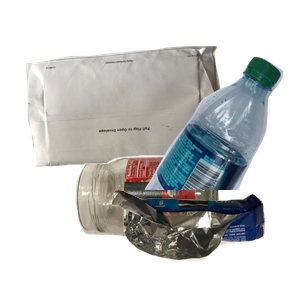glass: (73, 153, 284, 300)
paper: (24, 43, 242, 202)
plastic: (142, 54, 300, 234)
trash: (109, 187, 300, 300)
